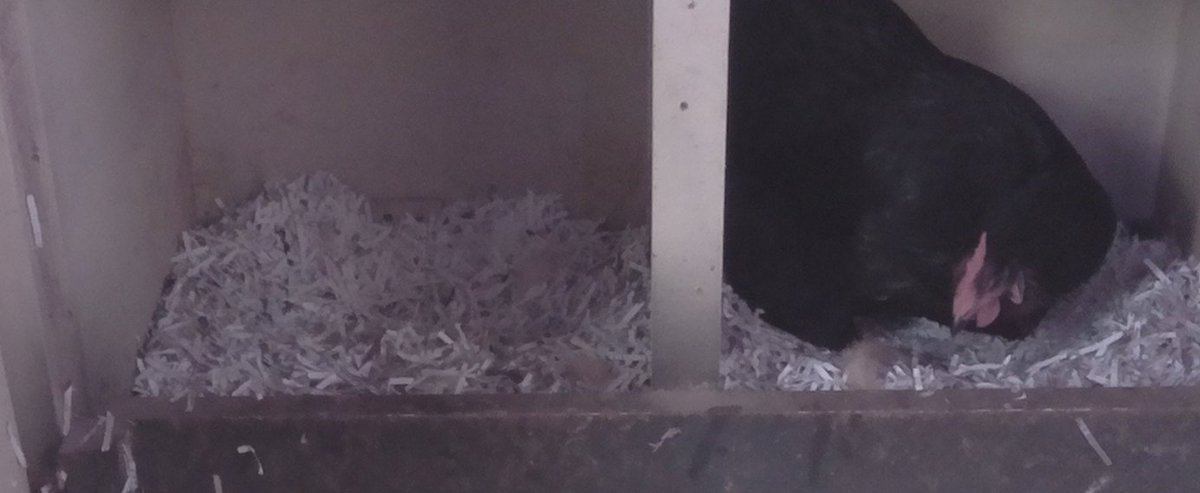hen: (730, 4, 1118, 351)
